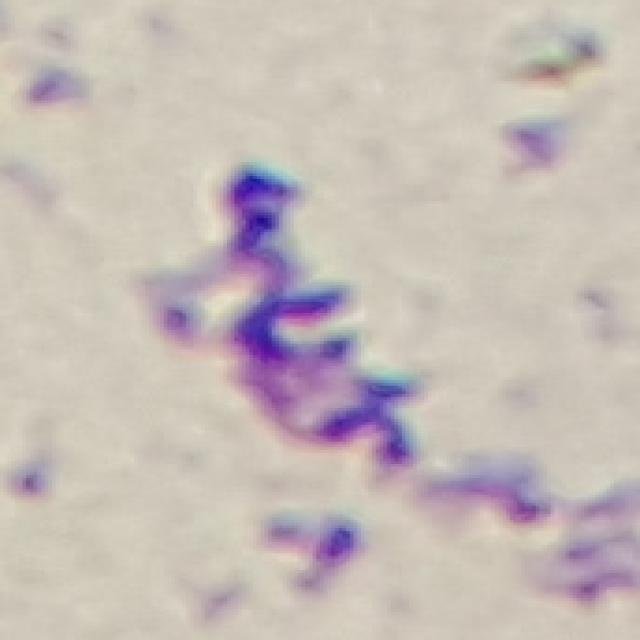non-sperm: (135, 153, 488, 497)
